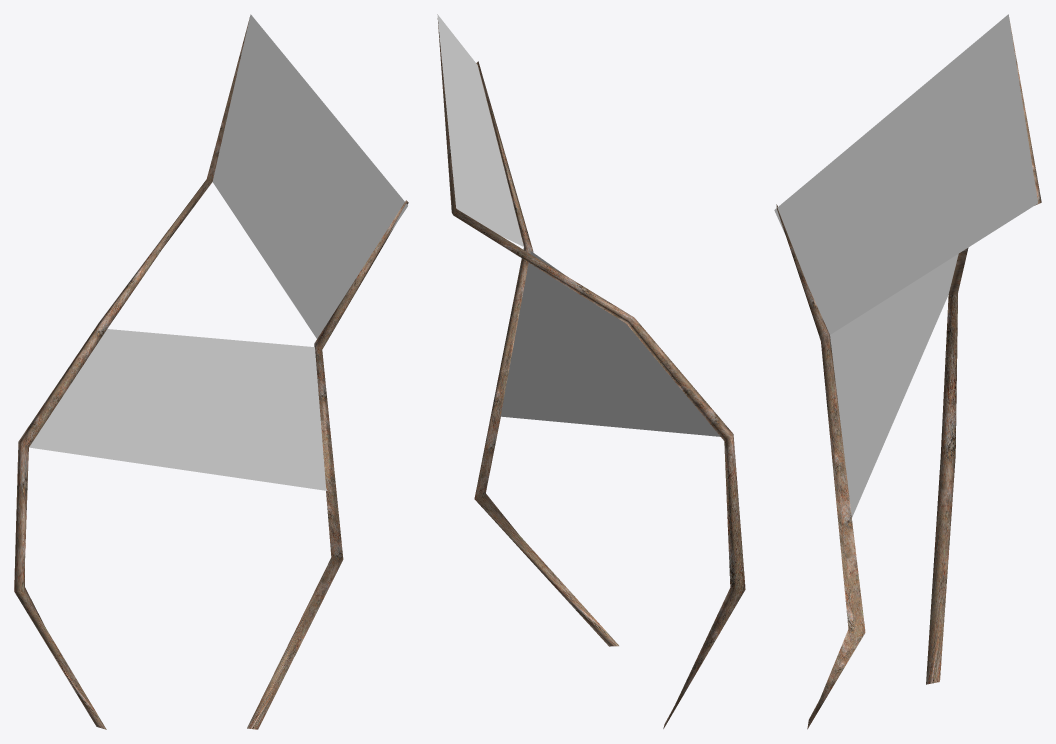
Rendered from poi_lair_web_s04_l1.fbx.
The picture shows the model from 3 angles, left to right: view 1: azimuth 30°, elevation 25°; view 2: azimuth 150°, elevation 25°; view 3: azimuth 270°, elevation 25°; orthographic projection. The views are drawn at different scales.
Parts seen in each view (by area): view 1: mesh_node; view 2: mesh_node; view 3: mesh_node.
Part boxes in pixels (<box>): mesh_node: <box>14,14,408,729</box>; mesh_node: <box>437,14,745,728</box>; mesh_node: <box>774,14,1041,729</box>.
Bounding box in the file's own units: 0.4977 × 0.9502 × 0.2973.
